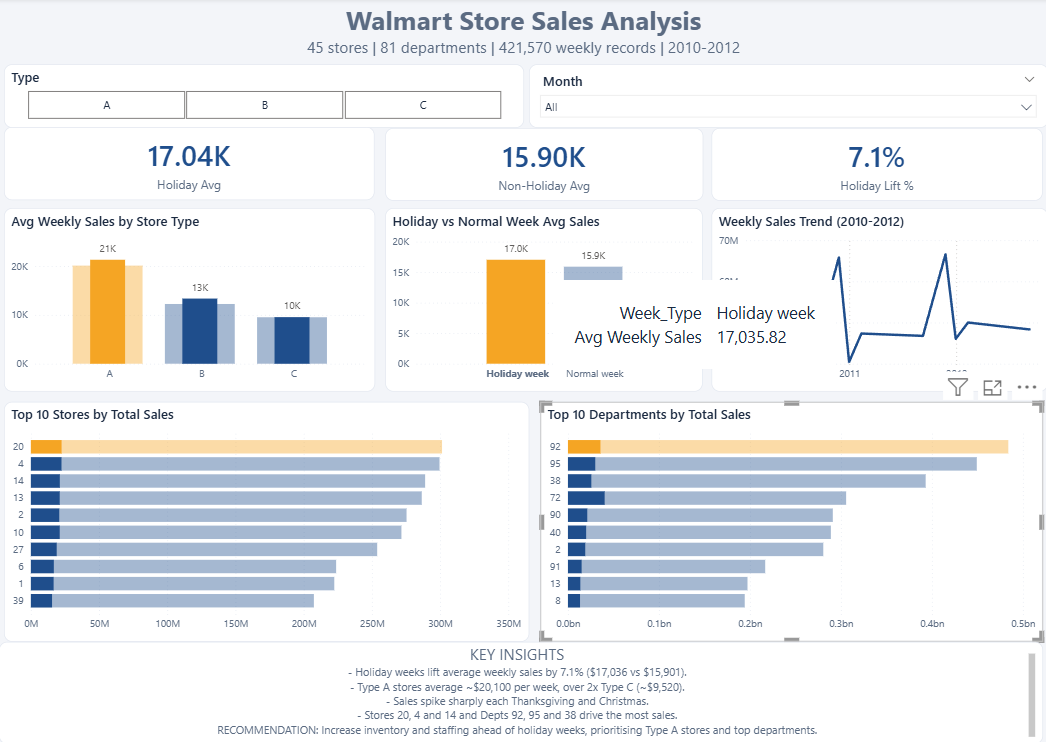

The page's visual inventory and layout, read from the dashboard file:
{"tool":"powerbi","page":{"name":"Page 1","canvas":[1280,910],"ordinal":0},"visuals":[{"type":"card","fields":{"Values":["walmart_clean.Holiday Avg"]},"box":[6.2,157.7,452.1,89.9],"z":0},{"type":"card","fields":{"Values":["walmart_clean.Non-Holiday Avg"]},"box":[470.6,158.9,388.1,88.7],"z":1000},{"type":"card","fields":{"Values":["walmart_clean.Holiday Lift %"]},"box":[869.8,158.9,404.1,88.7],"z":2000},{"type":"clusteredColumnChart","title":"Avg Weekly Sales by Store Type","fields":{"Y":["walmart_clean.Avg Weekly Sales"],"Category":["walmart_clean.Type"]},"box":[6.2,256.2,452.1,235.3],"z":3000},{"type":"lineChart","title":"Weekly Sales Trend (2010-2012)","fields":{"Category":["walmart_clean.Date"],"Y":["walmart_clean.Total Sales"]},"box":[869.8,256.2,410.2,235.3],"z":4000},{"type":"clusteredBarChart","title":"Top 10 Stores by Total Sales","fields":{"Category":["walmart_clean.Store"],"Y":["walmart_clean.Total Sales"]},"box":[6.2,507.6,640.6,293.2],"z":5000},{"type":"clusteredBarChart","title":"Top 10 Departments by Total Sales","fields":{"Category":["walmart_clean.Dept"],"Y":["walmart_clean.Total Sales"]},"box":[660.3,507.6,613.5,293.2],"z":6000},{"type":"slicer","title":"Type","fields":{"Values":["walmart_clean.Type"]},"box":[6.2,80.1,634.5,77.6],"z":7000},{"type":"slicer","fields":{"Values":["walmart_clean.Month"]},"box":[646.8,80.1,633.2,77.6],"z":8000},{"type":"textbox","box":[0,0,1280,80.1],"z":9000},{"type":"clusteredColumnChart","title":"Holiday vs Normal Week Avg Sales","fields":{"Category":["walmart_clean.Week_Type"],"Y":["walmart_clean.Avg Weekly Sales"]},"box":[471.8,256.2,386.8,235.3],"z":10000},{"type":"textbox","box":[0,800.8,1273.8,110],"z":11000}]}

Visuals, with their boxes in screenshot pixels (x1, y1, x2, y2), scaled from the page's 1280x910 canvas onto the 1046x742 screenshot:
card - walmart_clean.Holiday Avg: locate(5, 129, 375, 202)
card - walmart_clean.Non-Holiday Avg: locate(385, 130, 702, 202)
card - walmart_clean.Holiday Lift %: locate(711, 130, 1041, 202)
"Avg Weekly Sales by Store Type" clusteredColumnChart: locate(5, 209, 375, 401)
"Weekly Sales Trend (2010-2012)" lineChart: locate(711, 209, 1045, 401)
"Top 10 Stores by Total Sales" clusteredBarChart: locate(5, 414, 529, 653)
"Top 10 Departments by Total Sales" clusteredBarChart: locate(540, 414, 1041, 653)
"Type" slicer: locate(5, 65, 524, 129)
slicer - walmart_clean.Month: locate(529, 65, 1045, 129)
textbox: locate(0, 0, 1045, 65)
"Holiday vs Normal Week Avg Sales" clusteredColumnChart: locate(386, 209, 702, 401)
textbox: locate(0, 653, 1041, 741)
